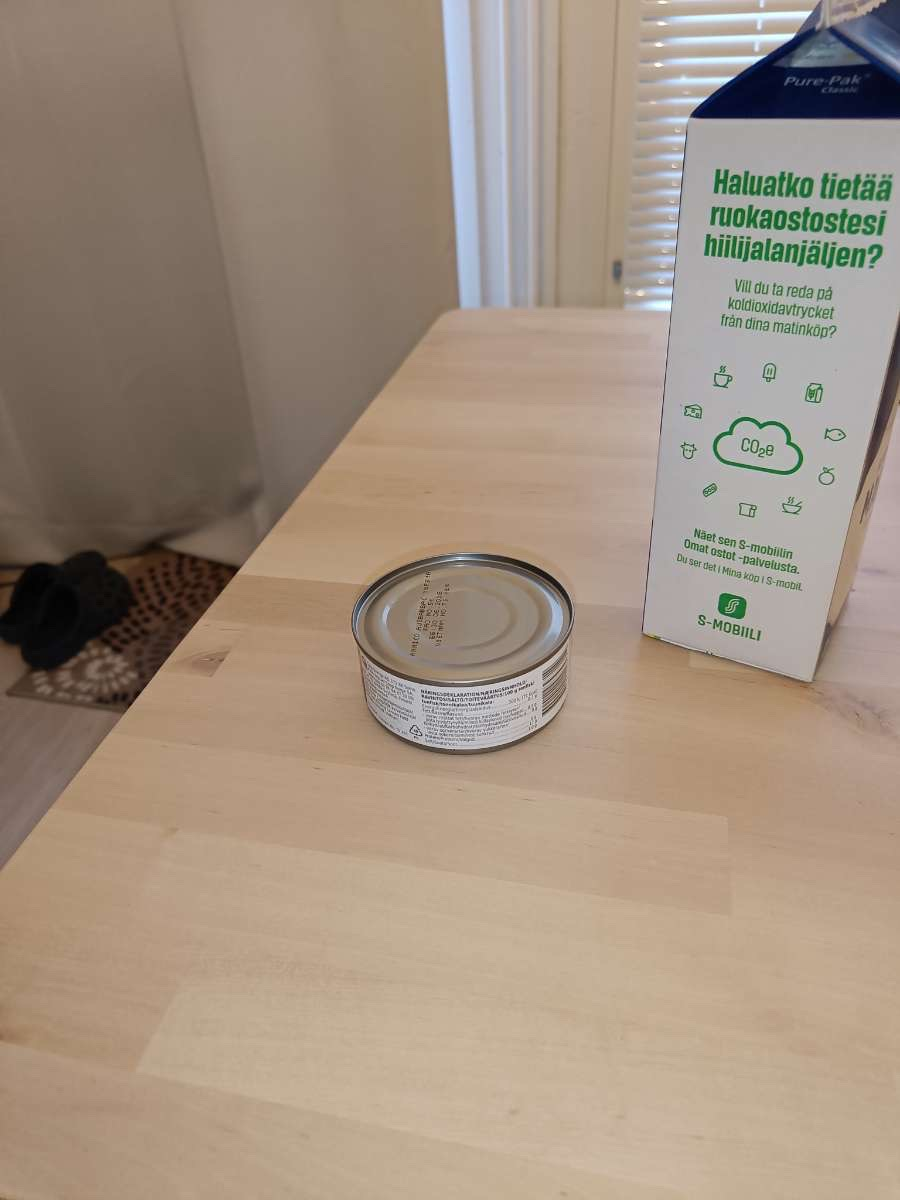Dryckeskartong: (654, 2, 890, 687)
Konservburk: (340, 550, 600, 759)
